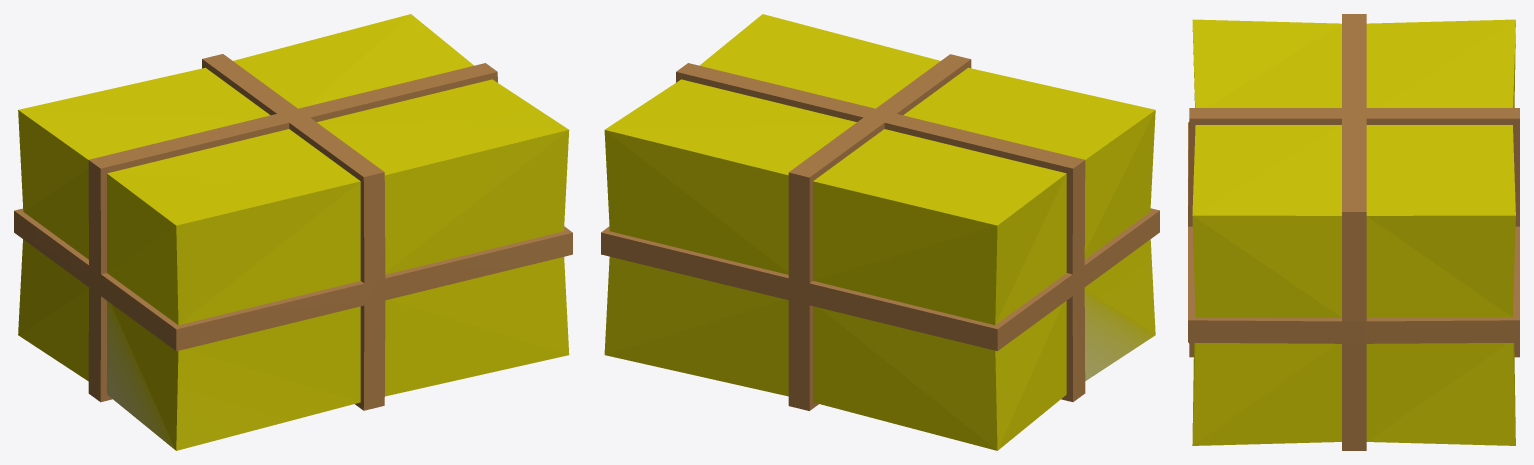
File: lilRectHay.fbx
3 renders of one model, left to right at view 1: azimuth 30°, elevation 25°; view 2: azimuth 150°, elevation 25°; view 3: azimuth 270°, elevation 25°, orthographic. The views are drawn at different scales.
Parts seen in each view (by area): view 1: lilRectHay; view 2: lilRectHay; view 3: lilRectHay.
Part boxes in pixels (left/top/right/bottom): lilRectHay: left=14, top=14, right=572, bottom=450; lilRectHay: left=601, top=14, right=1159, bottom=450; lilRectHay: left=1188, top=14, right=1519, bottom=450.
Size of the model in its own units: 211 by 118 by 149.
